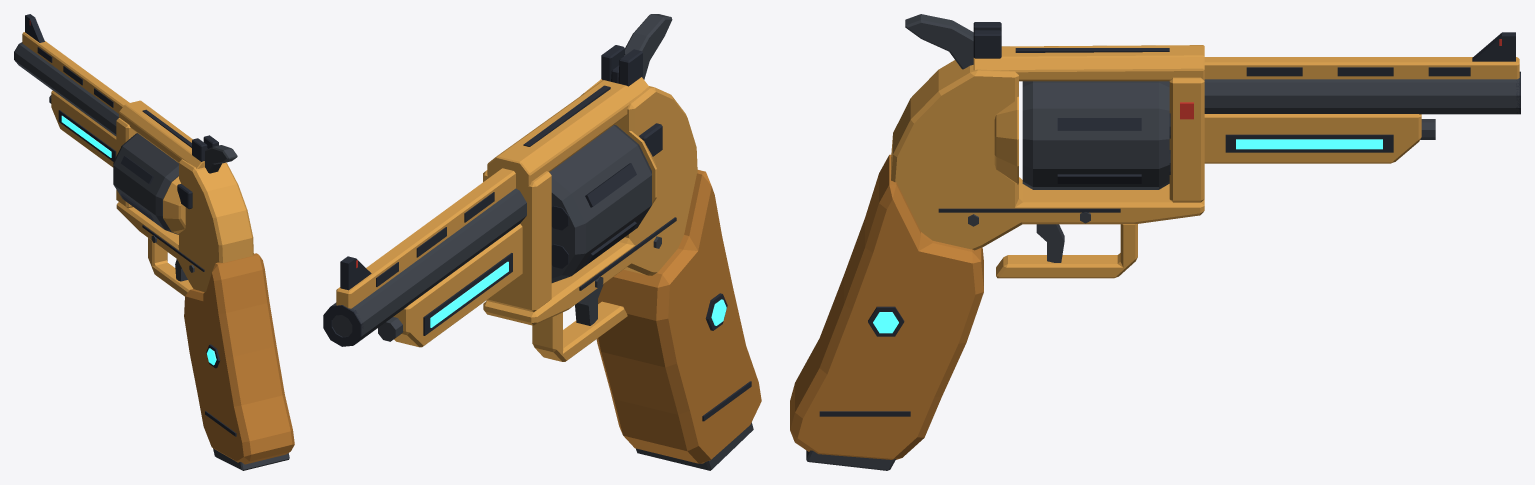
File: pt_viper_v_3.glb
The picture shows the model from 3 angles, left to right: view 1: azimuth 30°, elevation 25°; view 2: azimuth 150°, elevation 25°; view 3: azimuth 270°, elevation 25°; orthographic projection. The views are drawn at different scales.
Parts seen in each view (by area): view 1: grip, frame_lower, cylinder, barrel, top_strap, vent_rib, ejector_shroud, trigger_guard, recoil_shield, part_bolt, grip_cap, cylinder_flutes (+7 smaller); view 2: grip, frame_lower, cylinder, barrel, top_strap, frame_front, ejector_shroud, vent_rib, trigger_guard, part_irons_rear, part_bolt, cylinder_flutes (+11 smaller); view 3: grip, frame_lower, cylinder, barrel, ejector_shroud, top_strap, vent_rib, frame_front, trigger_guard, part_bolt, cylinder_flutes, core_frame (+8 smaller).
Part boxes in pixels (x1=…): grip: x1=184, y1=253, x2=294, y2=464; frame_lower: x1=116, y1=159, x2=253, y2=292; cylinder: x1=113, y1=133, x2=178, y2=234; barrel: x1=14, y1=43, x2=118, y2=136; top_strap: x1=119, y1=100, x2=204, y2=168; vent_rib: x1=22, y1=32, x2=129, y2=113; ejector_shroud: x1=51, y1=90, x2=116, y2=167; trigger_guard: x1=148, y1=238, x2=193, y2=296; recoil_shield: x1=163, y1=176, x2=185, y2=234; part_bolt: x1=204, y1=145, x2=237, y2=173; grip_cap: x1=213, y1=448, x2=289, y2=470; cylinder_flutes: x1=121, y1=156, x2=153, y2=220; grip: x1=596, y1=170, x2=761, y2=463; frame_lower: x1=483, y1=79, x2=697, y2=325; cylinder: x1=549, y1=125, x2=651, y2=282; barrel: x1=332, y1=188, x2=526, y2=343; top_strap: x1=487, y1=77, x2=649, y2=185; frame_front: x1=483, y1=170, x2=551, y2=312; ejector_shroud: x1=393, y1=224, x2=522, y2=347; vent_rib: x1=336, y1=168, x2=515, y2=308; trigger_guard: x1=532, y1=301, x2=627, y2=361; part_irons_rear: x1=601, y1=45, x2=642, y2=86; part_bolt: x1=624, y1=14, x2=672, y2=79; cylinder_flutes: x1=585, y1=163, x2=636, y2=264; grip: x1=790, y1=154, x2=983, y2=459; frame_lower: x1=891, y1=60, x2=1204, y2=250; cylinder: x1=1022, y1=81, x2=1169, y2=189; barrel: x1=1204, y1=78, x2=1519, y2=114; ejector_shroud: x1=1204, y1=114, x2=1421, y2=163; top_strap: x1=973, y1=45, x2=1204, y2=81; vent_rib: x1=1204, y1=57, x2=1519, y2=79; frame_front: x1=1169, y1=77, x2=1204, y2=202; trigger_guard: x1=996, y1=224, x2=1137, y2=278; part_bolt: x1=905, y1=14, x2=973, y2=69; cylinder_flutes: x1=1057, y1=118, x2=1141, y2=183; core_frame: x1=1225, y1=134, x2=1393, y2=152.
Bounding box in the file's own units: 0.0338 × 0.1379 × 0.2088.
